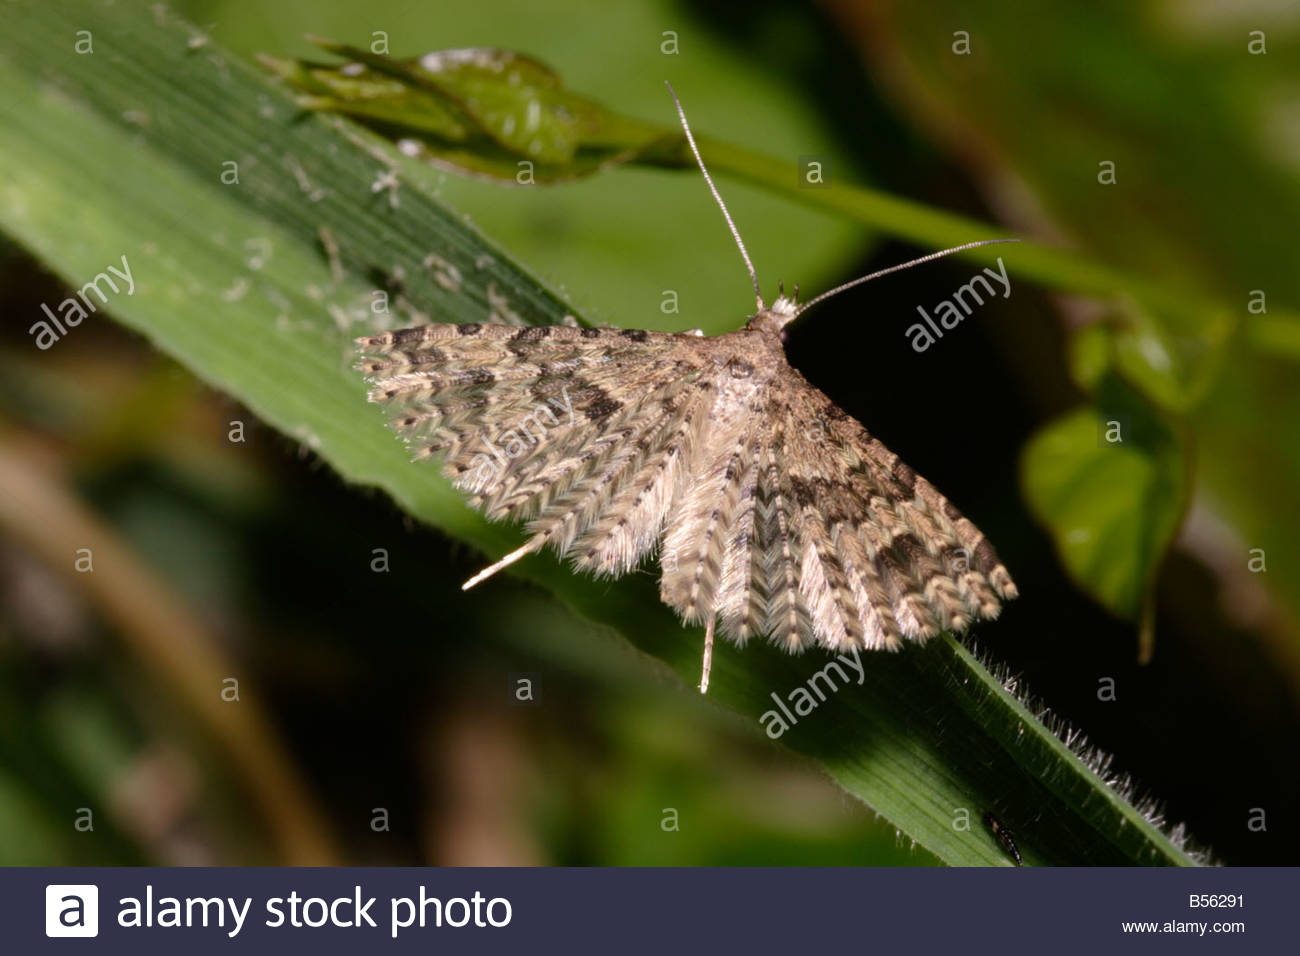Alucitidae: (337, 89, 1039, 702)
moth: (339, 91, 1041, 704)
